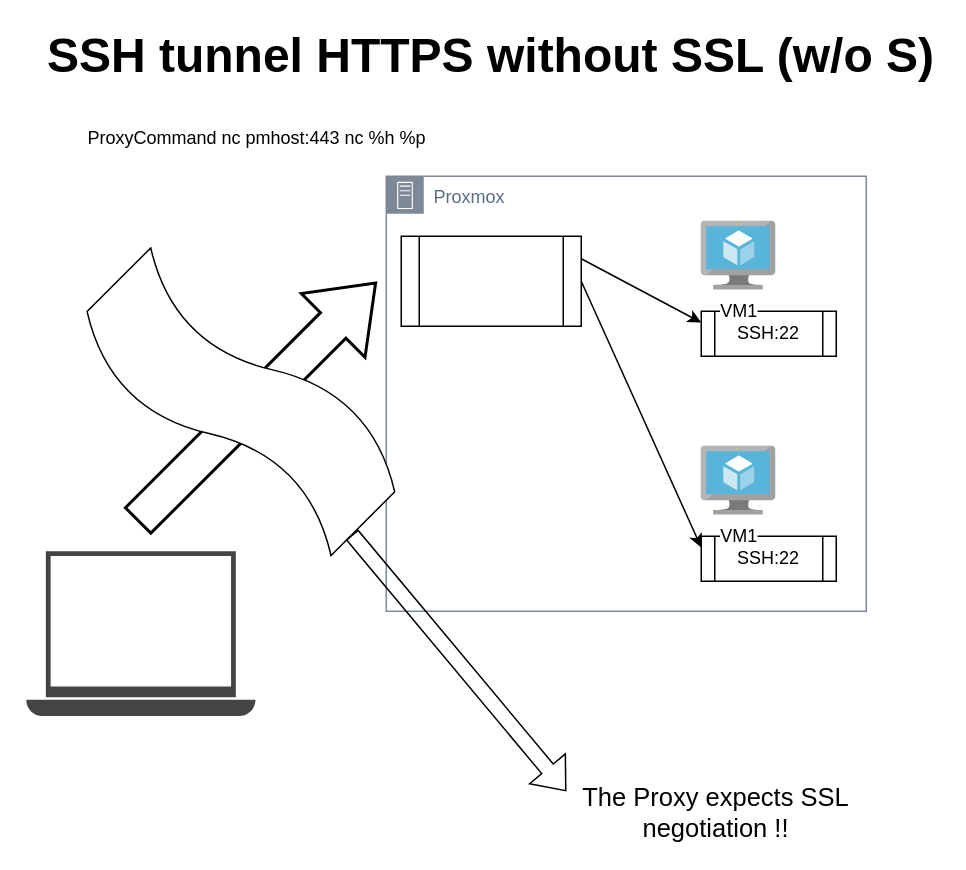
The diagram is 966 pixels wide and 870 high, and some of its shapes have lost their labels. The centre of each missing label's shape, as x and y in pixels:
"HTTPS proxy By ISP" belongs at point (240, 401).
"NGINX HTTPS:443 stream" belongs at point (490, 280).
"SSH" belongs at point (140, 633).
